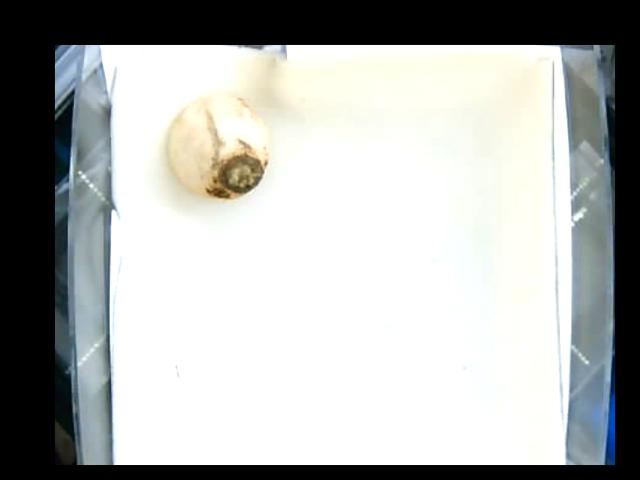Mooli: (165, 90, 269, 200)
